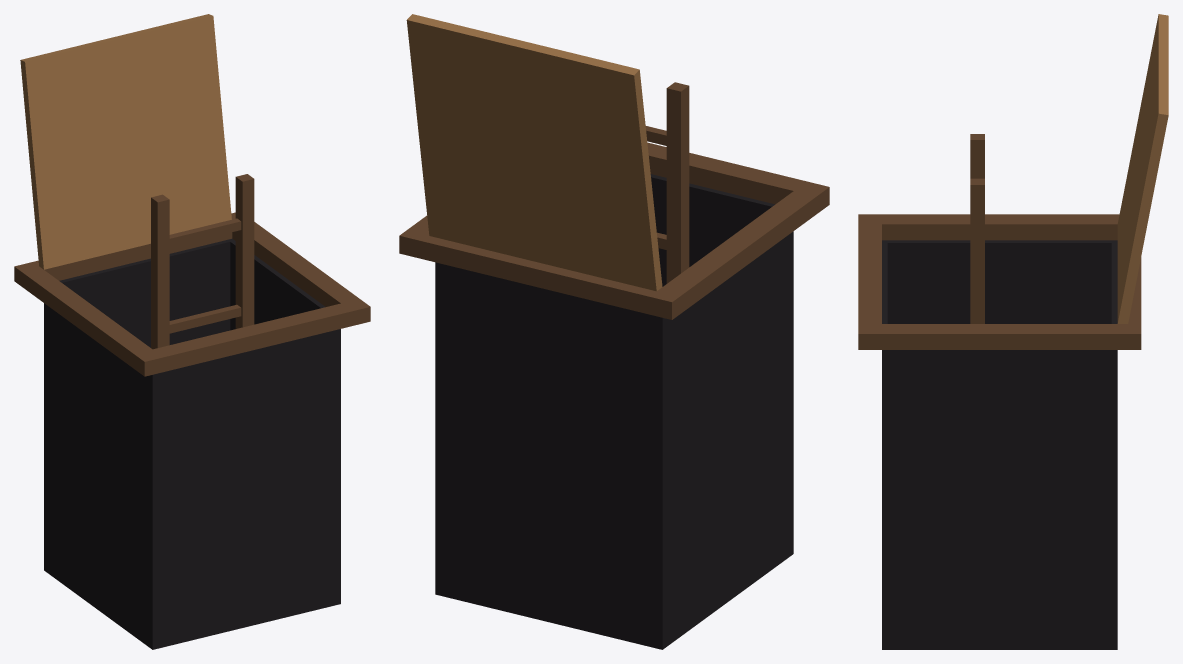
Rendered from TrapdoorOpen.fbx.
The picture shows the model from 3 angles, left to right: view 1: azimuth 30°, elevation 25°; view 2: azimuth 150°, elevation 25°; view 3: azimuth 270°, elevation 25°; orthographic projection. The views are drawn at different scales.
Parts seen in each view (by area): view 1: TrapdoorOpen; view 2: TrapdoorOpen; view 3: TrapdoorOpen.
Part boxes in pixels (x1,y1,x2,y2): TrapdoorOpen: [14, 14, 370, 649]; TrapdoorOpen: [399, 14, 829, 649]; TrapdoorOpen: [858, 14, 1168, 649].
Size of the model in its own units: 0.96 by 2.01 by 1.05.
